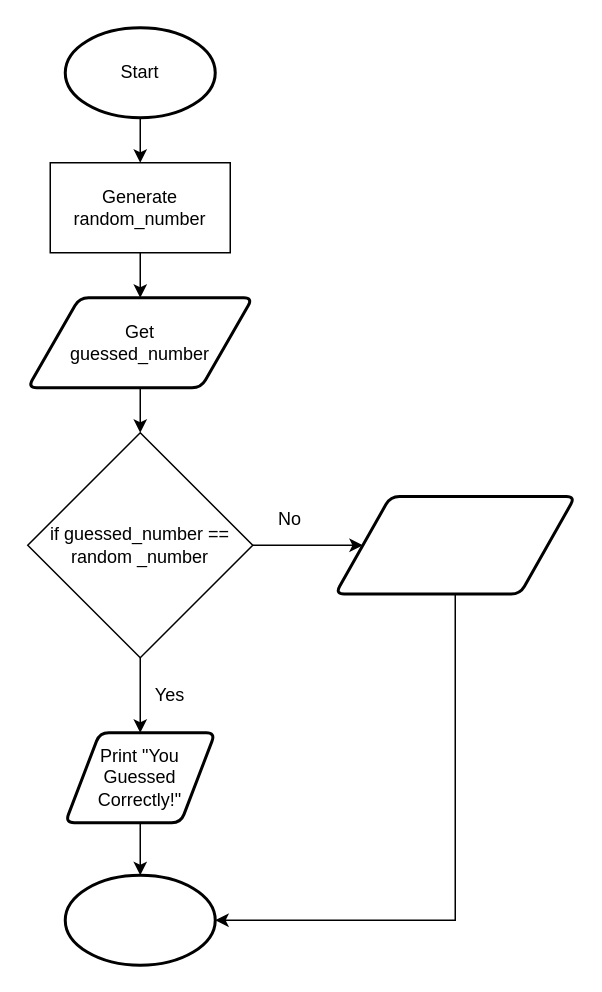
Some shapes in this 602 by 992 pixel diagram are drawn without their labels. Here are the shapes that lost their labels. From the top down, the centre of each, then its label:
(x=454, y=544): Print "You guessed incorrectly, the number was random_number"
(x=139, y=919): Stop
